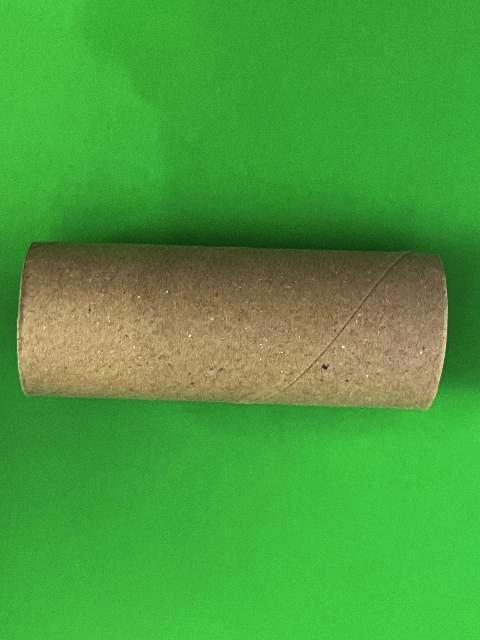tissueroll: (16, 237, 450, 413)
